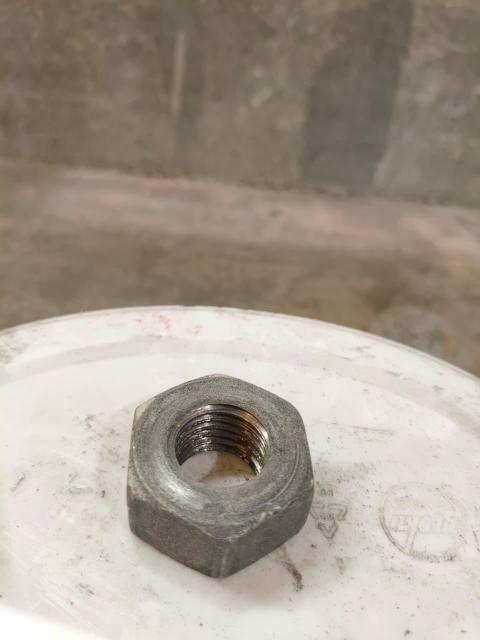Metal: (127, 372, 320, 580)
